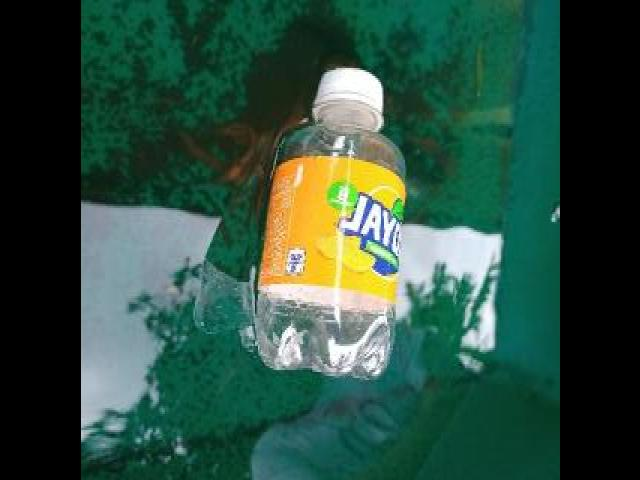Bottle: (245, 57, 411, 393)
